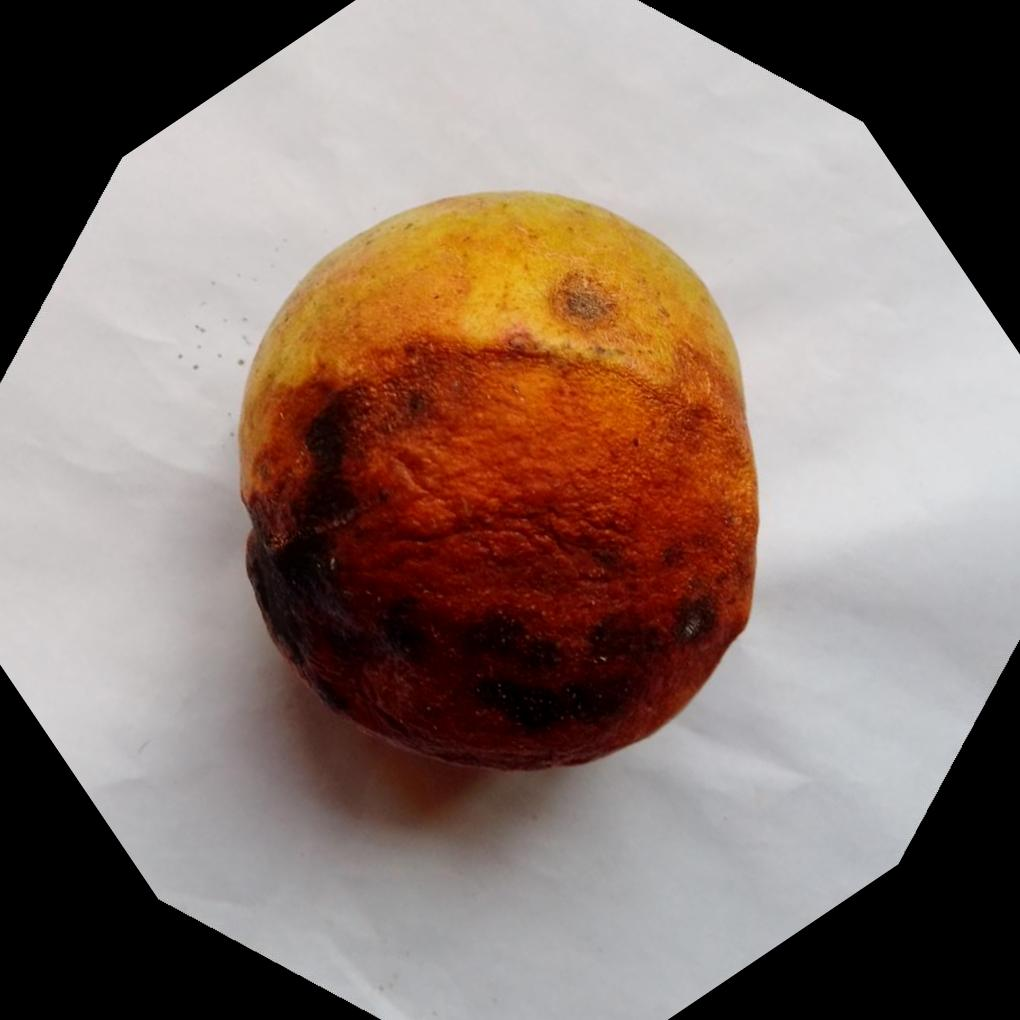FreshOrange: (230, 188, 758, 774)
